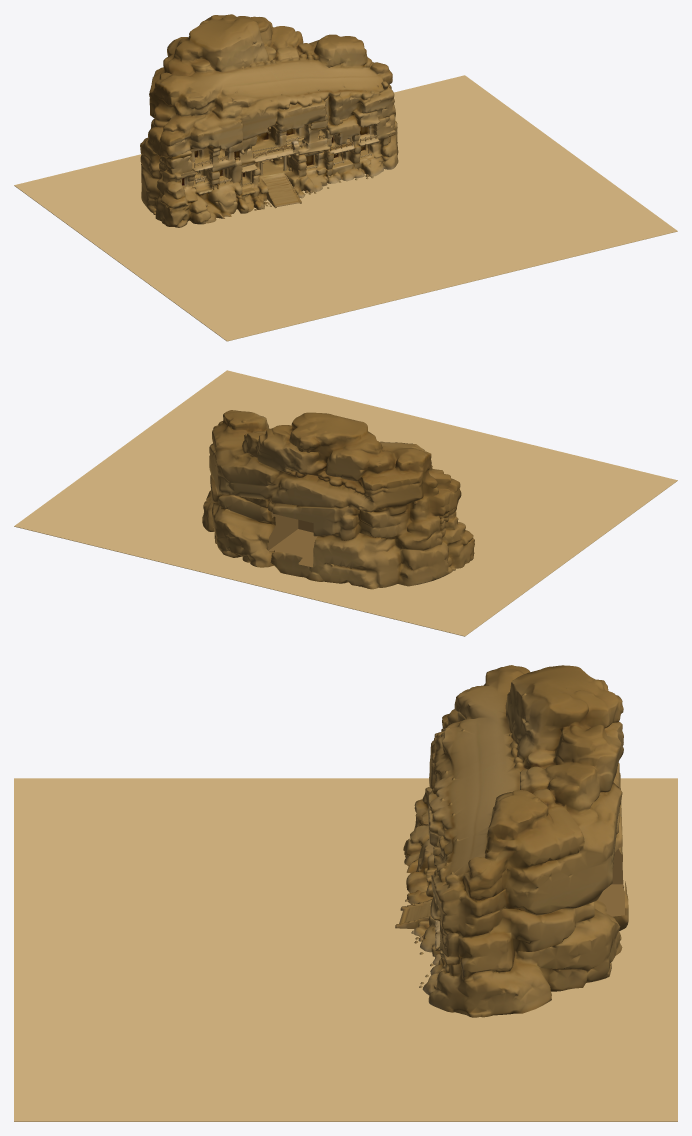
Rendered from exterior.glb.
3 views of the same model, one above another, from view 1: azimuth 30°, elevation 25°; view 2: azimuth 150°, elevation 25°; view 3: azimuth 270°, elevation 25° (orthographic). The views are drawn at different scales.
Visible parts, largest first — view 1: export-regional-sand-base.001, export-user-cliff-facade; view 2: export-regional-sand-base.001, export-user-cliff-facade; view 3: export-regional-sand-base.001, export-user-cliff-facade.
Part boxes in pixels (x1,y1,x2,y2): export-regional-sand-base.001: (14, 75, 677, 341); export-user-cliff-facade: (140, 14, 398, 227); export-regional-sand-base.001: (14, 370, 677, 636); export-user-cliff-facade: (202, 410, 474, 589); export-regional-sand-base.001: (14, 778, 677, 1121); export-user-cliff-facade: (395, 665, 628, 1017).
Bounding box in the file's own units: 220 × 68.23 × 180.
2 materials, 1 textured.
